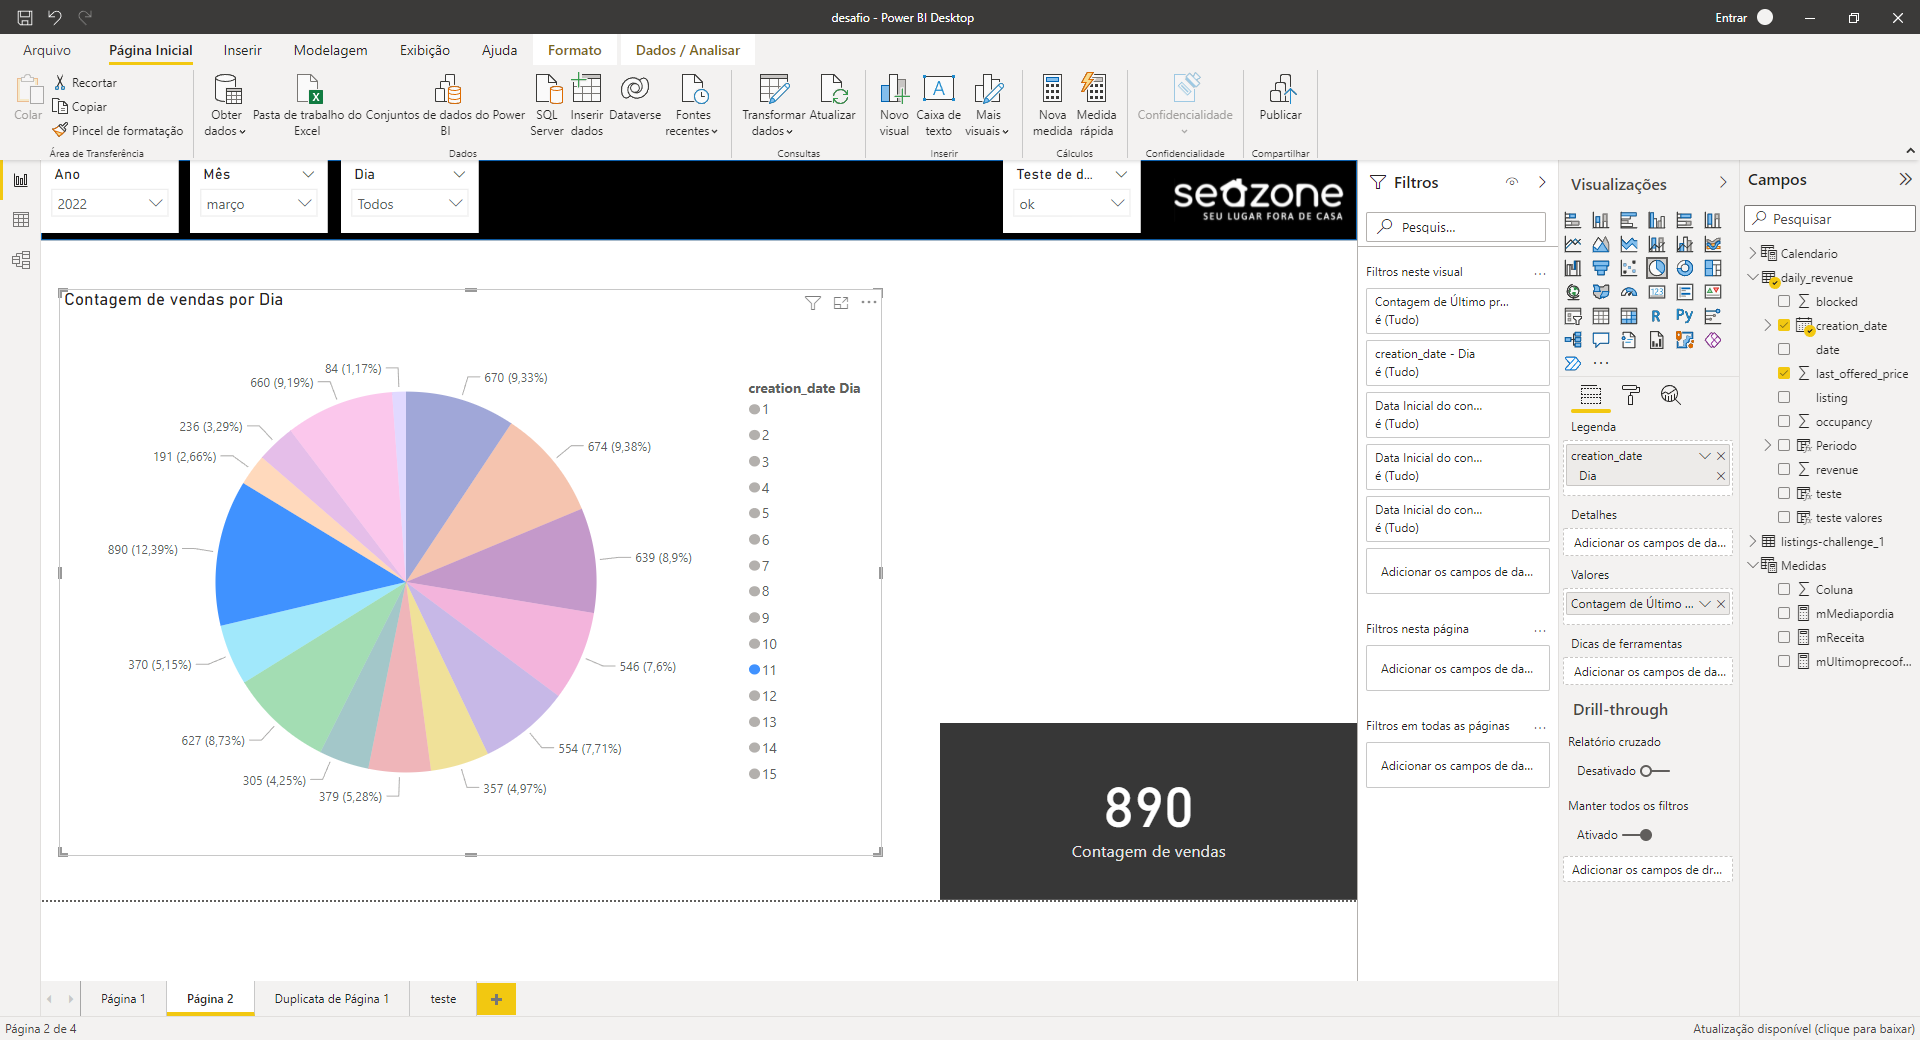

Layout of this report page (visuals, bound fields, positions):
{"tool":"powerbi","page":{"name":"Página 2","canvas":[1280,720],"ordinal":1},"visuals":[{"type":"pieChart","title":"Contagem de vendas por Dia","fields":{"Category":["daily_revenue.creation_date.Variation.Hierarquia de datas.Dia"],"Y":["CountNonNull(daily_revenue.last_offered_price)"]},"box":[17.5,125.5,800.5,551.5],"z":0},{"type":"shape","box":[0,0,1280,77.8],"z":1000},{"type":"slicer","fields":{"Values":["daily_revenue.creation_date.Variation.Hierarquia de datas.Ano"]},"box":[0,0,134.2,71],"z":2000},{"type":"image","box":[1097.1,0,175.1,77.8],"z":4000},{"type":"slicer","fields":{"Values":["daily_revenue.teste"]},"box":[935.7,0,134.2,71],"z":6000},{"type":"slicer","fields":{"Values":["daily_revenue.creation_date.Variation.Hierarquia de datas.Mês"]},"box":[144.9,0,134.2,71],"z":7000},{"type":"card","fields":{"Values":["CountNonNull(daily_revenue.last_offered_price)"]},"box":[874.4,547.6,405.6,172.2],"z":11000},{"type":"slicer","fields":{"Values":["daily_revenue.creation_date.Variation.Hierarquia de datas.Dia"]},"box":[291.8,0,134.2,71],"z":13000}]}

Visuals, with their boxes on the page's 1280x720 design canvas (x1, y1, x2, y2). These are canvas units, not pixel positions in the 1920x1040 screenshot, which may show the page scaled, cropped or inside an application window:
"Contagem de vendas por Dia" pieChart: (18, 126, 818, 677)
shape: (0, 0, 1280, 78)
slicer - daily_revenue.creation_date.Variation.Hierarquia de datas.Ano: (0, 0, 134, 71)
image: (1097, 0, 1272, 78)
slicer - daily_revenue.teste: (936, 0, 1070, 71)
slicer - daily_revenue.creation_date.Variation.Hierarquia de datas.Mês: (145, 0, 279, 71)
card - CountNonNull(daily_revenue.last_offered_price): (874, 548, 1280, 720)
slicer - daily_revenue.creation_date.Variation.Hierarquia de datas.Dia: (292, 0, 426, 71)
